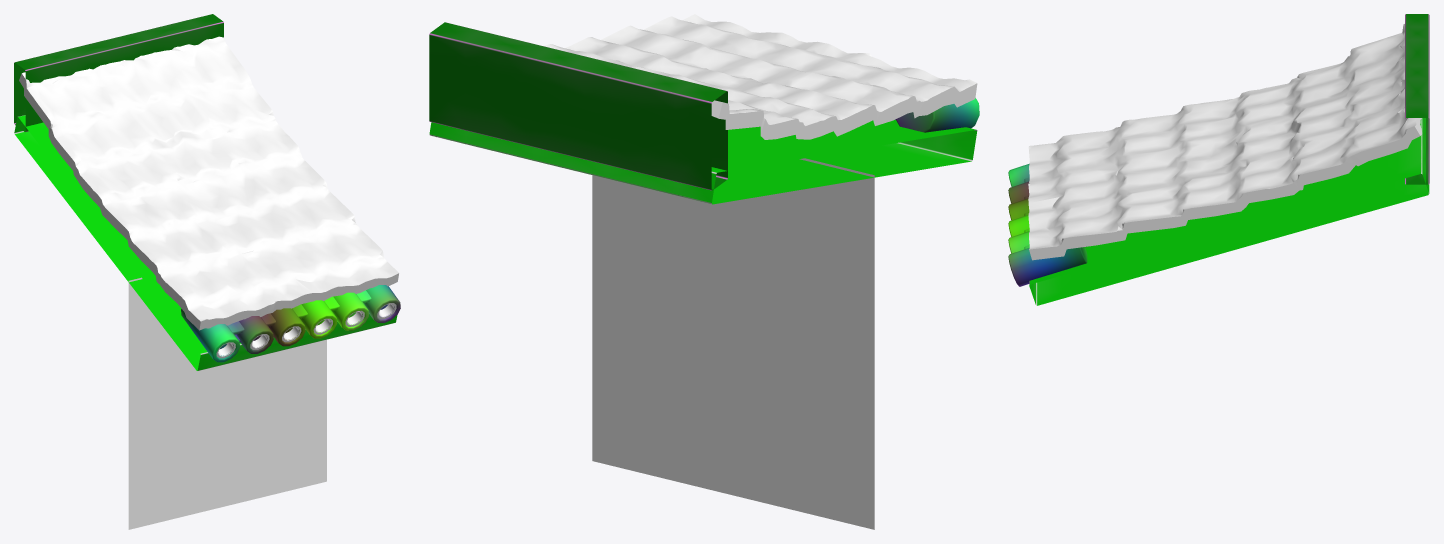
Rendered from roof_fenced_100_01.fbx.
The picture shows the model from 3 angles, left to right: view 1: azimuth 30°, elevation 25°; view 2: azimuth 150°, elevation 25°; view 3: azimuth 270°, elevation 25°; orthographic projection. The views are drawn at different scales.
Visible parts, largest first — view 1: roof_fenced_100_01; view 2: roof_fenced_100_01; view 3: roof_fenced_100_01.
Part boxes in pixels (x1,y1,x2,y2): roof_fenced_100_01: [14, 14, 400, 529]; roof_fenced_100_01: [429, 14, 979, 529]; roof_fenced_100_01: [1008, 14, 1429, 305].
Bounding box in the file's own units: 1 × 1.85 × 1.71.
